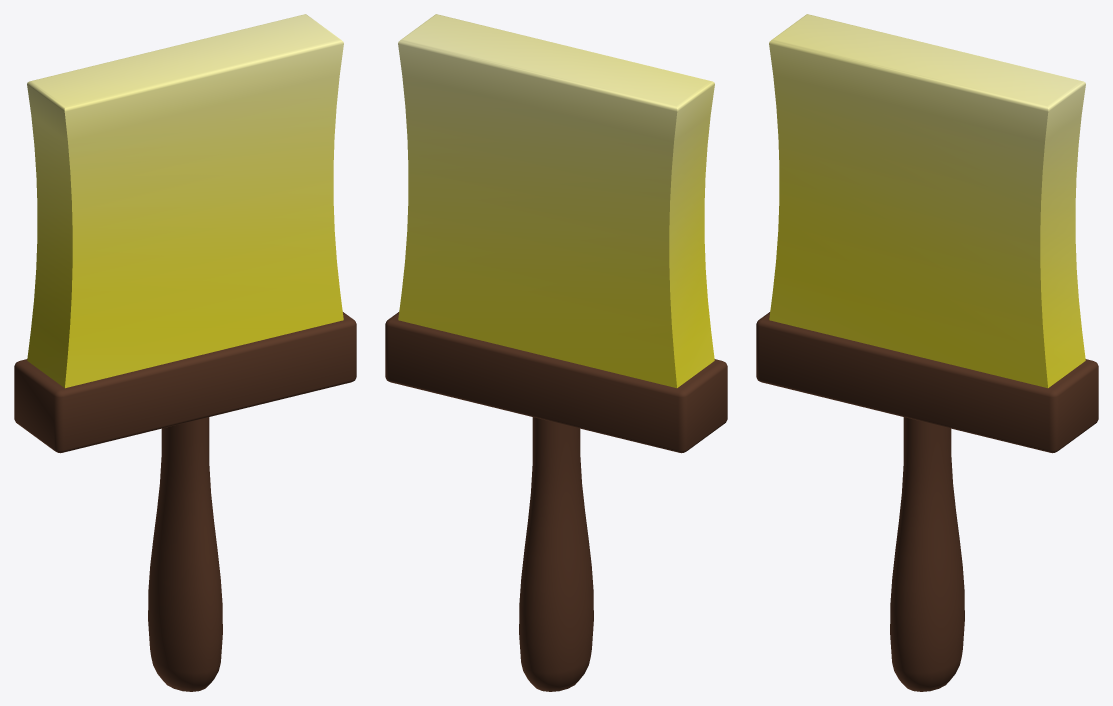
File: frca_yeni.fbx
3 views of the same model, side by side, from view 1: azimuth 30°, elevation 25°; view 2: azimuth 150°, elevation 25°; view 3: azimuth 330°, elevation 25° (orthographic).
Visible parts, largest first — view 1: fırça_yeni; view 2: fırça_yeni; view 3: fırça_yeni.
Part boxes in pixels (<box>): fırça_yeni: <box>14,14,356,691</box>; fırça_yeni: <box>385,14,727,691</box>; fırça_yeni: <box>756,14,1098,691</box>.
Bounding box in the file's own units: 249 × 490 × 66.04.
